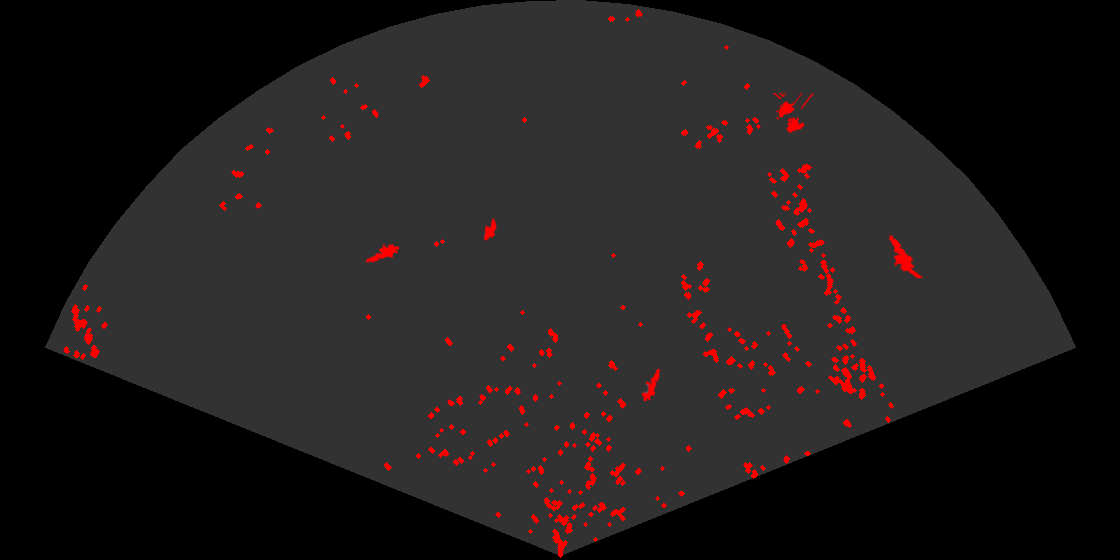AUV: (482, 217, 498, 242)
cage: (771, 93, 814, 135)
frogman: (882, 231, 923, 278), (640, 366, 662, 401), (365, 242, 399, 264)
